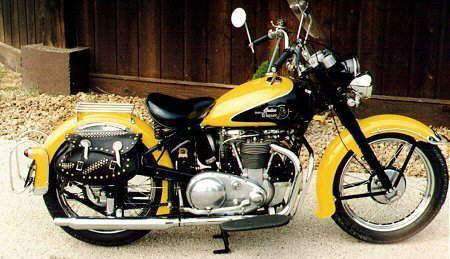motorcycle: (4, 1, 450, 248)
